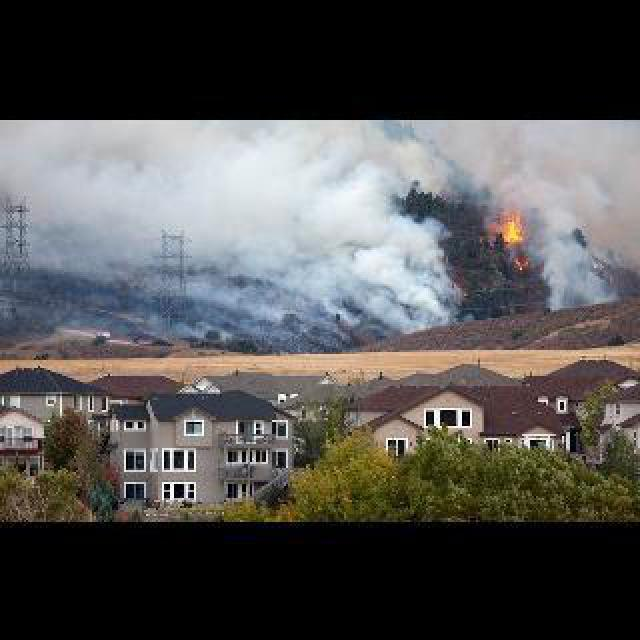fire: (496, 208, 540, 272)
smoke: (139, 184, 468, 330), (529, 195, 625, 312)
